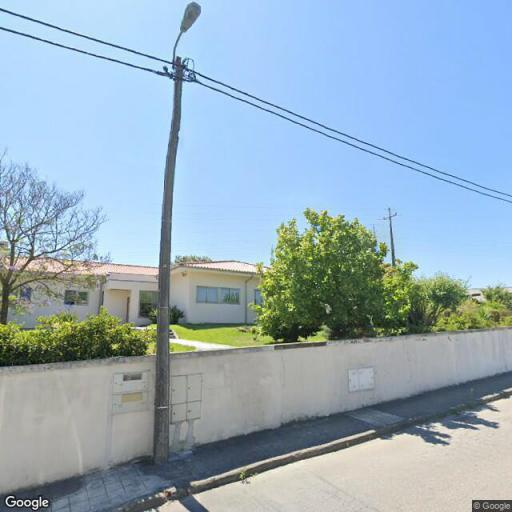mono_7: (381, 202, 401, 268)
